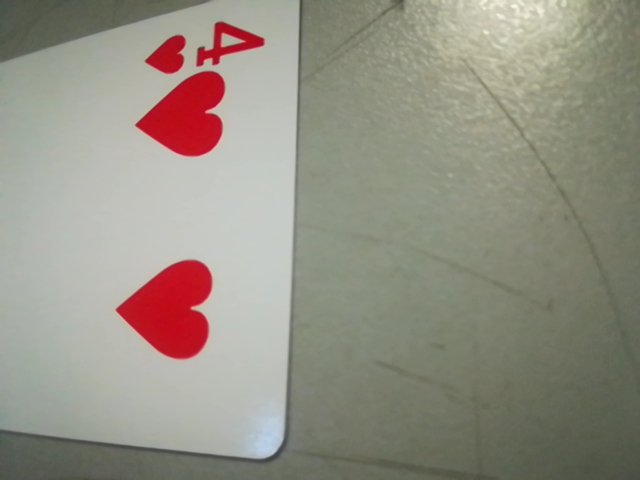hx 4: (131, 19, 272, 73)
